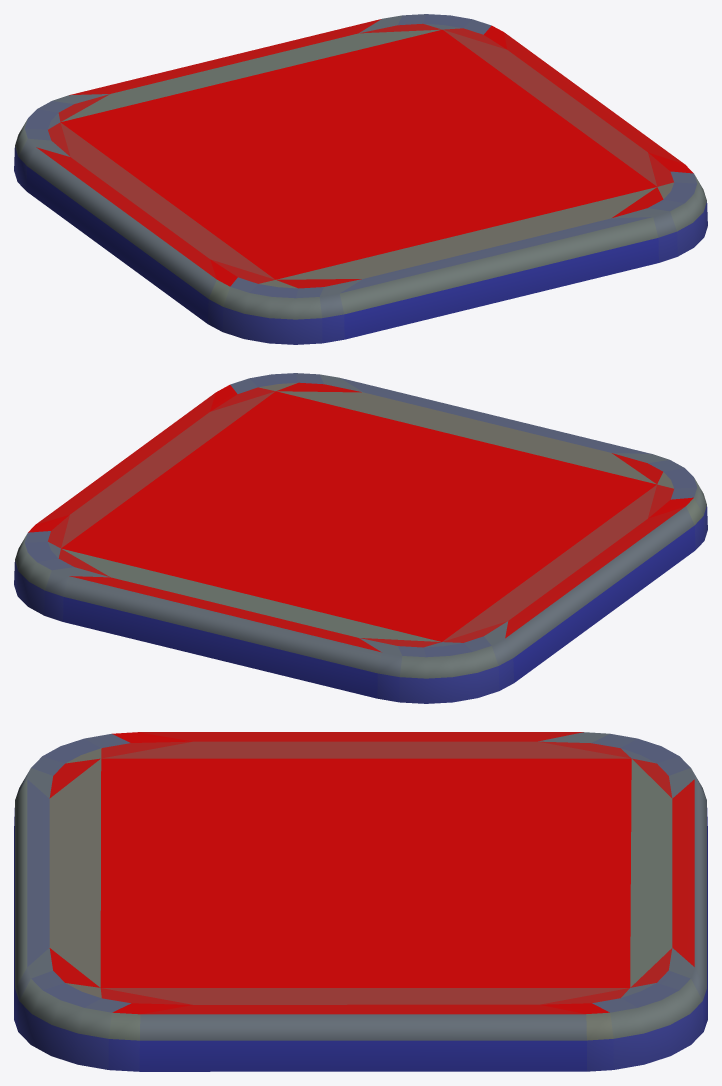
File: Prop_Tile.fbx
The picture shows the model from 3 angles, top to bottom: view 1: azimuth 30°, elevation 25°; view 2: azimuth 150°, elevation 25°; view 3: azimuth 270°, elevation 25°; orthographic projection. The views are drawn at different scales.
Parts seen in each view (by area): view 1: Prop_Tile; view 2: Prop_Tile; view 3: Prop_Tile.
Part boxes in pixels (x1,y1,x2,y2): Prop_Tile: (14,14,707,344); Prop_Tile: (14,373,707,703); Prop_Tile: (14,732,707,1071).
Size of the model in its own units: 112 by 9.29 by 112.
